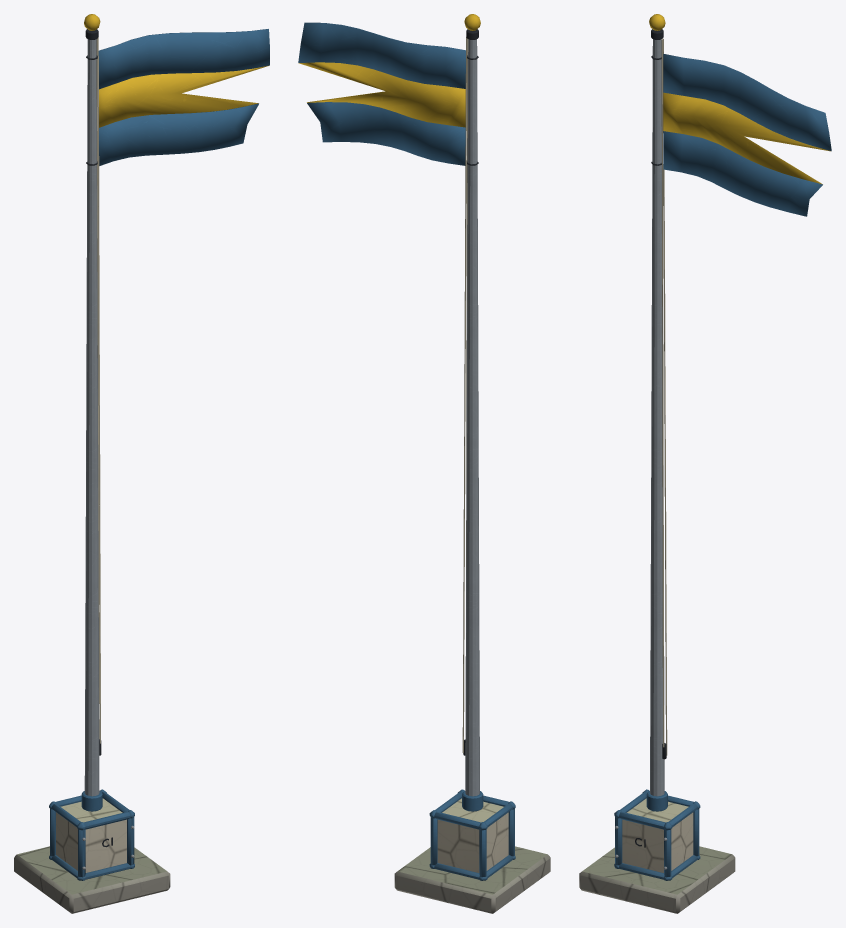
The model's file is colony_flag_pole.glb.
The picture shows the model from 3 angles, left to right: view 1: azimuth 30°, elevation 25°; view 2: azimuth 150°, elevation 25°; view 3: azimuth 330°, elevation 25°; orthographic projection.
Parts seen in each view (by area): view 1: colony_flag_pole; view 2: colony_flag_pole; view 3: colony_flag_pole.
Part boxes in pixels (<box>): colony_flag_pole: <box>14,14,269,913</box>; colony_flag_pole: <box>298,14,550,913</box>; colony_flag_pole: <box>579,14,831,913</box>.
Bounding box in the file's own units: 2.46 × 9.02 × 1.1.
Materials: 10 (10 with a texture image).
